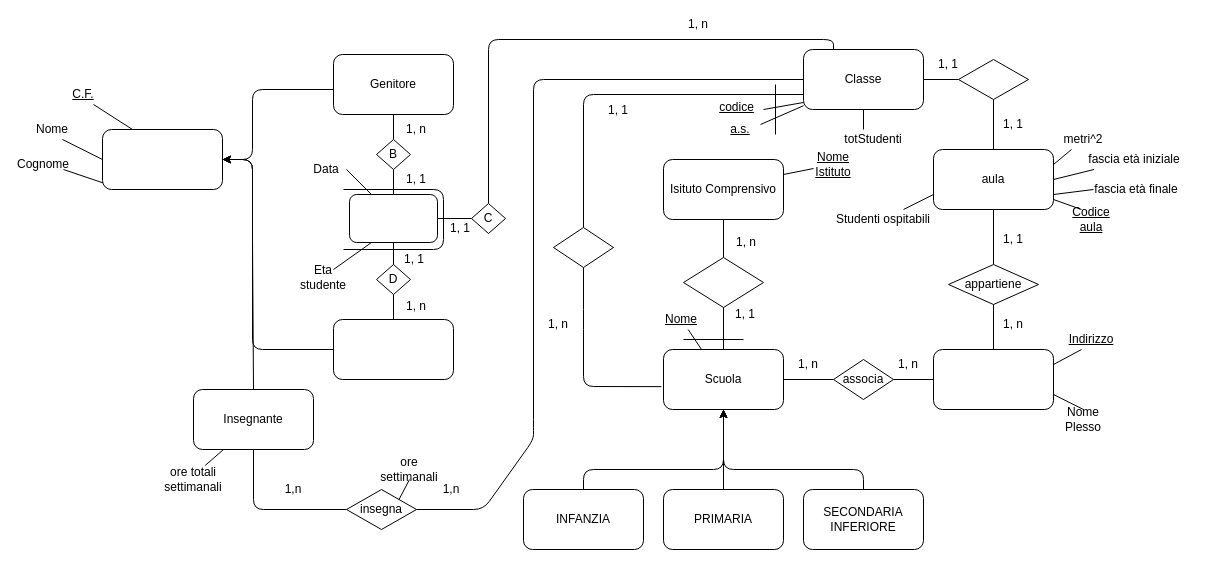
This 1218x567 diagram has some shape labels left out. Each missing label, with the centre of its shape:
afferisce: [583,247]
composta: [993,79]
comprende: [723,282]
Iscrizione: [393,218]
Persona: [162,159]
Plesso: [993,379]
Studente: [393,349]
